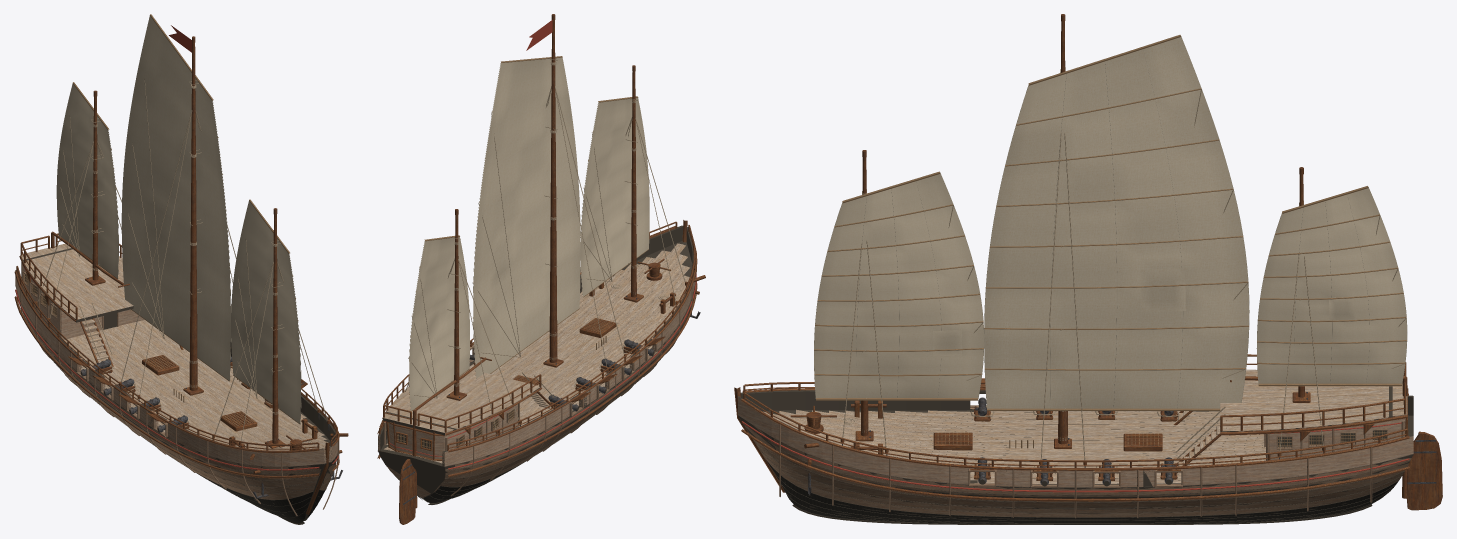
File: fuchuan-lod1.glb
3 renders of one model, left to right at view 1: azimuth 30°, elevation 25°; view 2: azimuth 150°, elevation 25°; view 3: azimuth 270°, elevation 25°, orthographic. The views are drawn at different scales.
Parts seen in each view (by area): view 1: sail_1, deck, hull, sail_0, sail_2, deck_fittings, bulwark_rails, mast_timber_1, shadow_hull, sterncastle, mast_timber_0, mast_timber_2 (+5 smaller); view 2: sail_1, deck, sail_0, hull, sail_2, shadow_hull, deck_fittings, bulwark_rails, mast_timber_1, mast_timber_0, stern_transom, rudder_blade (+6 smaller); view 3: sail_1, hull, sail_0, sail_2, deck, shadow_hull, bulwark_rails, deck_fittings, rudder_blade, sterncastle, rigging_1.
Boxes of the visible parts, x1,y1,x2,y2 form: sail_1: (121,14,231,381); deck: (19,243,329,450); hull: (14,270,339,524); sail_0: (231,199,301,424); sail_2: (56,82,118,278); deck_fittings: (21,262,348,498); bulwark_rails: (16,233,337,450); mast_timber_1: (189,43,197,390); shadow_hull: (15,270,336,521); sterncastle: (23,266,144,339); mast_timber_0: (272,214,278,443); mast_timber_2: (92,97,98,280); sail_1: (472,56,580,378); deck: (382,243,689,463); sail_0: (580,96,649,297); hull: (377,220,697,504); sail_2: (408,235,469,411); shadow_hull: (378,225,693,502); deck_fittings: (383,259,705,461); bulwark_rails: (379,221,695,450); mast_timber_1: (549,20,557,362); mast_timber_0: (631,71,636,297); stern_transom: (388,423,444,459); rudder_blade: (399,459,415,524); sail_1: (984,35,1249,411); hull: (734,387,1413,524); sail_0: (814,171,984,400); sail_2: (1256,186,1407,386); deck: (763,369,1407,483); shadow_hull: (738,390,1413,523); bulwark_rails: (743,354,1408,467); deck_fittings: (790,385,1407,494); rudder_blade: (1406,431,1442,510); sterncastle: (1266,418,1404,460); rigging_1: (1039,133,1086,473).
Size of the model in its own units: 10.4 by 26.66 by 33.57.
Materials: 13 (8 with a texture image).
